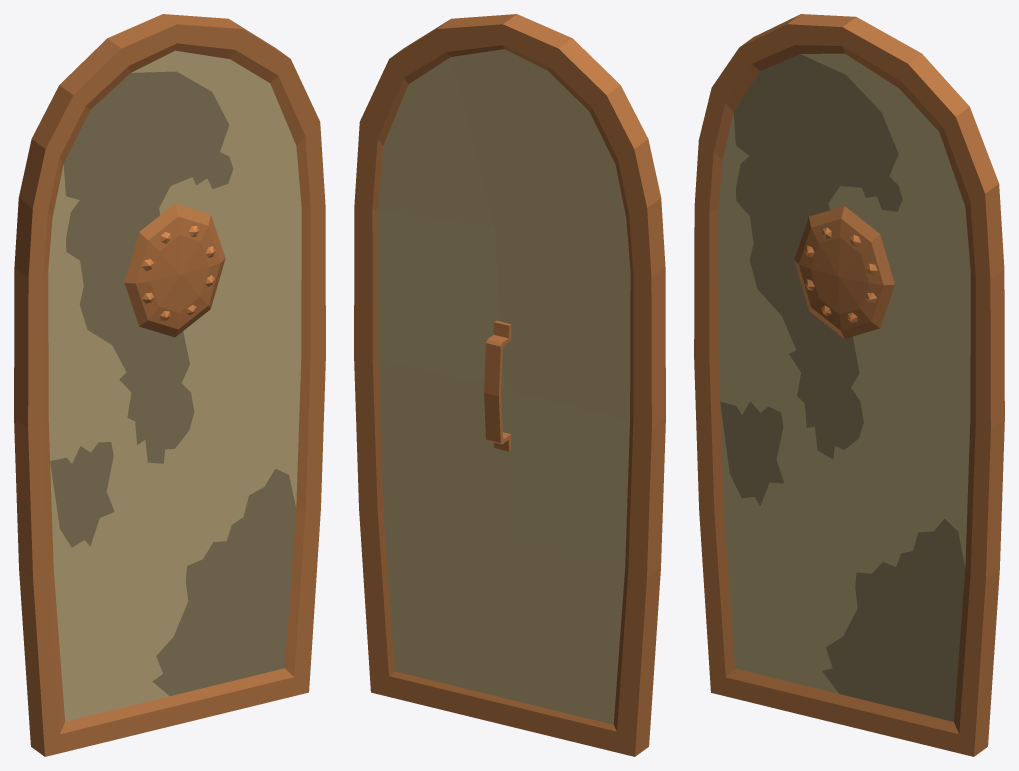
The model's file is SM_pwe_egypt_shield_05.fbx.
3 renders of one model, left to right at view 1: azimuth 30°, elevation 25°; view 2: azimuth 150°, elevation 25°; view 3: azimuth 330°, elevation 25°, orthographic.
Visible parts, largest first — view 1: SM_pwe_egypt_shield_05; view 2: SM_pwe_egypt_shield_05; view 3: SM_pwe_egypt_shield_05.
Boxes of the visible parts, bbox=[...] form: SM_pwe_egypt_shield_05: bbox=[14, 14, 325, 756]; SM_pwe_egypt_shield_05: bbox=[354, 14, 665, 756]; SM_pwe_egypt_shield_05: bbox=[694, 14, 1004, 756].
Bounding box in the file's own units: 54.26 × 122 × 9.01.
